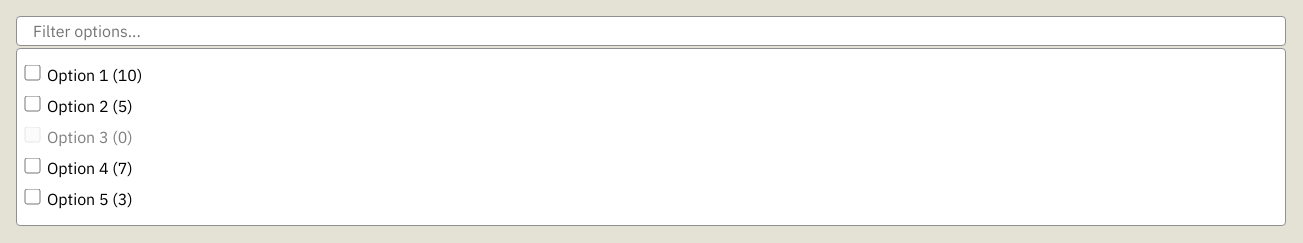
Test: CheckboxGroup unit tests › shows "No matching options" when filter has no results
This screenshot has width=1303, height=243.
# Type in filter that won't match any options
Type "xyz" into the field with class "filter-input".
click(651, 31); type("xyz")  # box left=16, top=16, right=1286, bottom=46
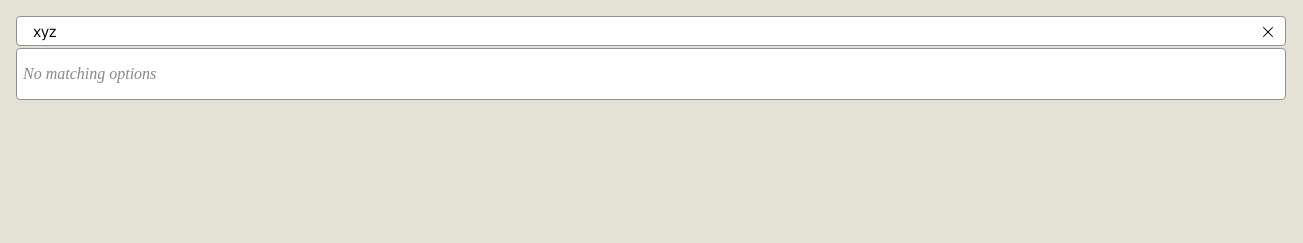
Check: the text with class "no-results" reads "No matching options", box left=23, top=65, right=156, bottom=82
